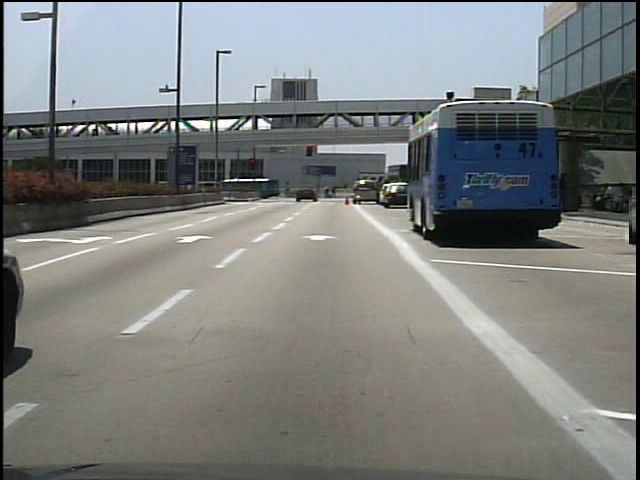person: (593, 182, 614, 210), (323, 186, 335, 201), (330, 185, 339, 201), (562, 175, 563, 210)
